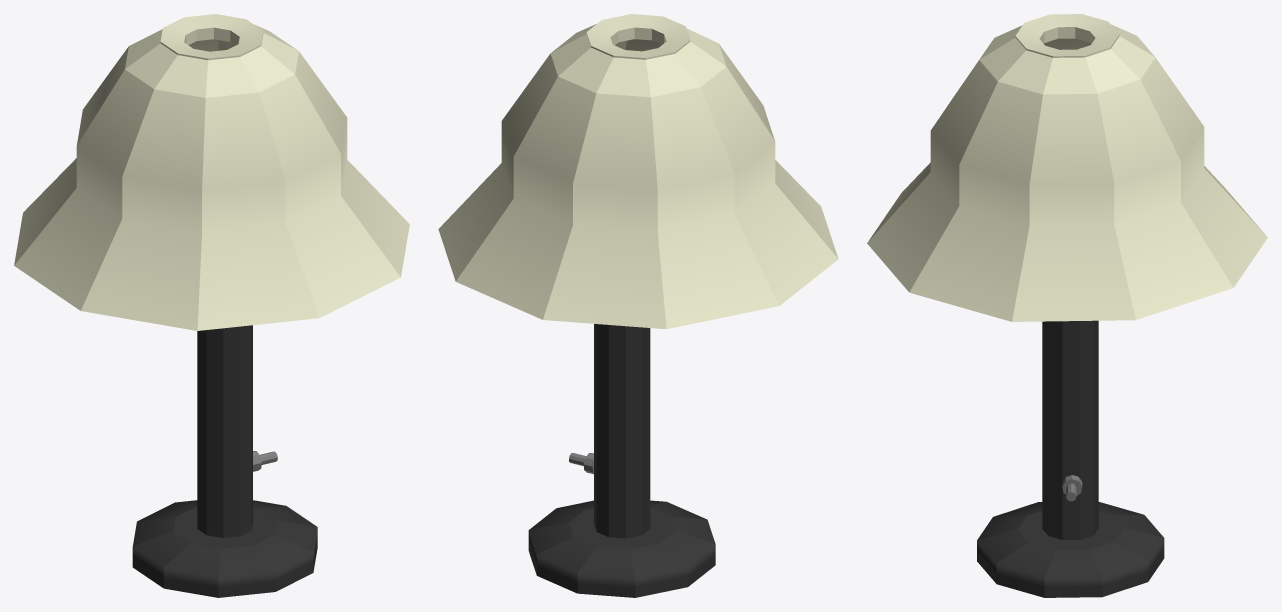
Rendered from LampTableTop.fbx.
3 views of the same model, side by side, from view 1: azimuth 30°, elevation 25°; view 2: azimuth 150°, elevation 25°; view 3: azimuth 270°, elevation 25° (orthographic).
Parts seen in each view (by area): view 1: LampShade1, Pole; view 2: LampShade1, Pole; view 3: LampShade1, Pole.
Boxes of the visible parts, x1=… form: LampShade1: x1=14, y1=14, x2=409, y2=330; Pole: x1=132, y1=325, x2=317, y2=597; LampShade1: x1=438, y1=14, x2=838, y2=329; Pole: x1=528, y1=324, x2=715, y2=597; LampShade1: x1=867, y1=14, x2=1267, y2=321; Pole: x1=977, y1=320, x2=1164, y2=597.
Size of the model in its own units: 0.4452 by 0.6597 by 0.4631.
